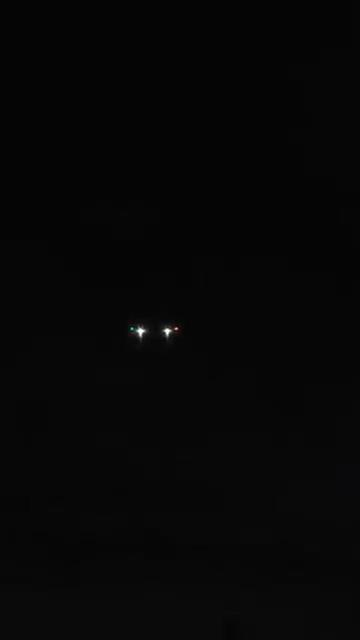Plane: (105, 286, 205, 370)
